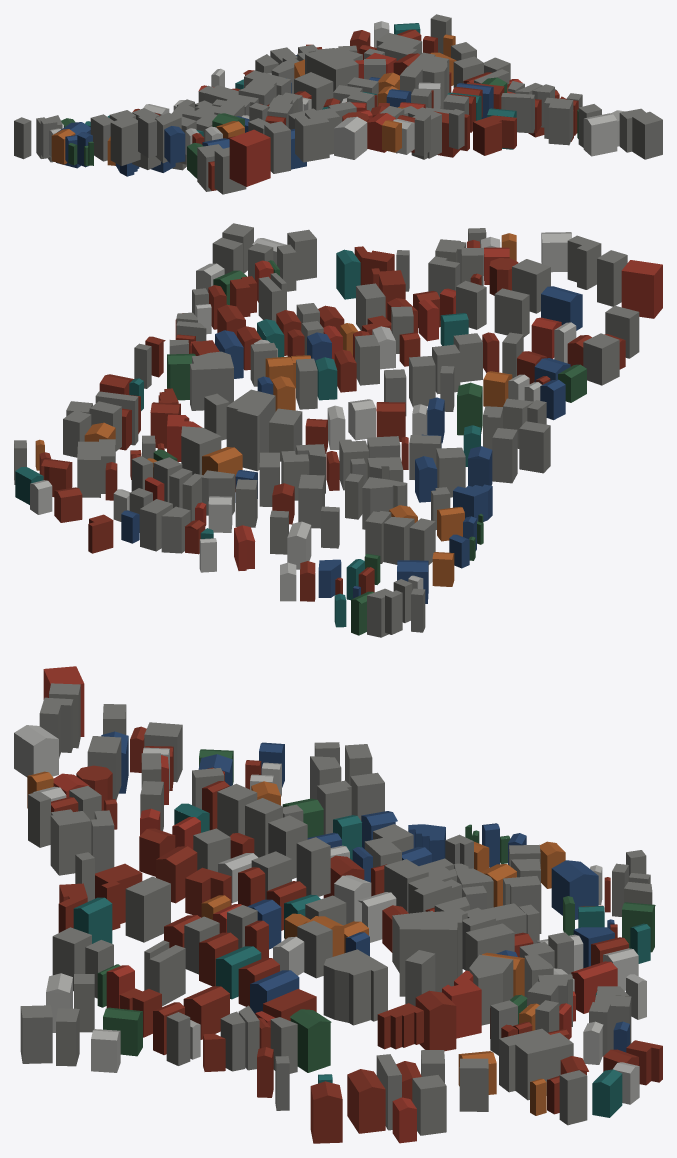
The model's file is near-17-109441-59479.49a6863b.glb.
The picture shows the model from 3 angles, top to bottom: view 1: azimuth 30°, elevation 25°; view 2: azimuth 150°, elevation 25°; view 3: azimuth 270°, elevation 25°; orthographic projection. The views are drawn at different scales.
Size of the model in its own units: 308 by 134 by 311.
